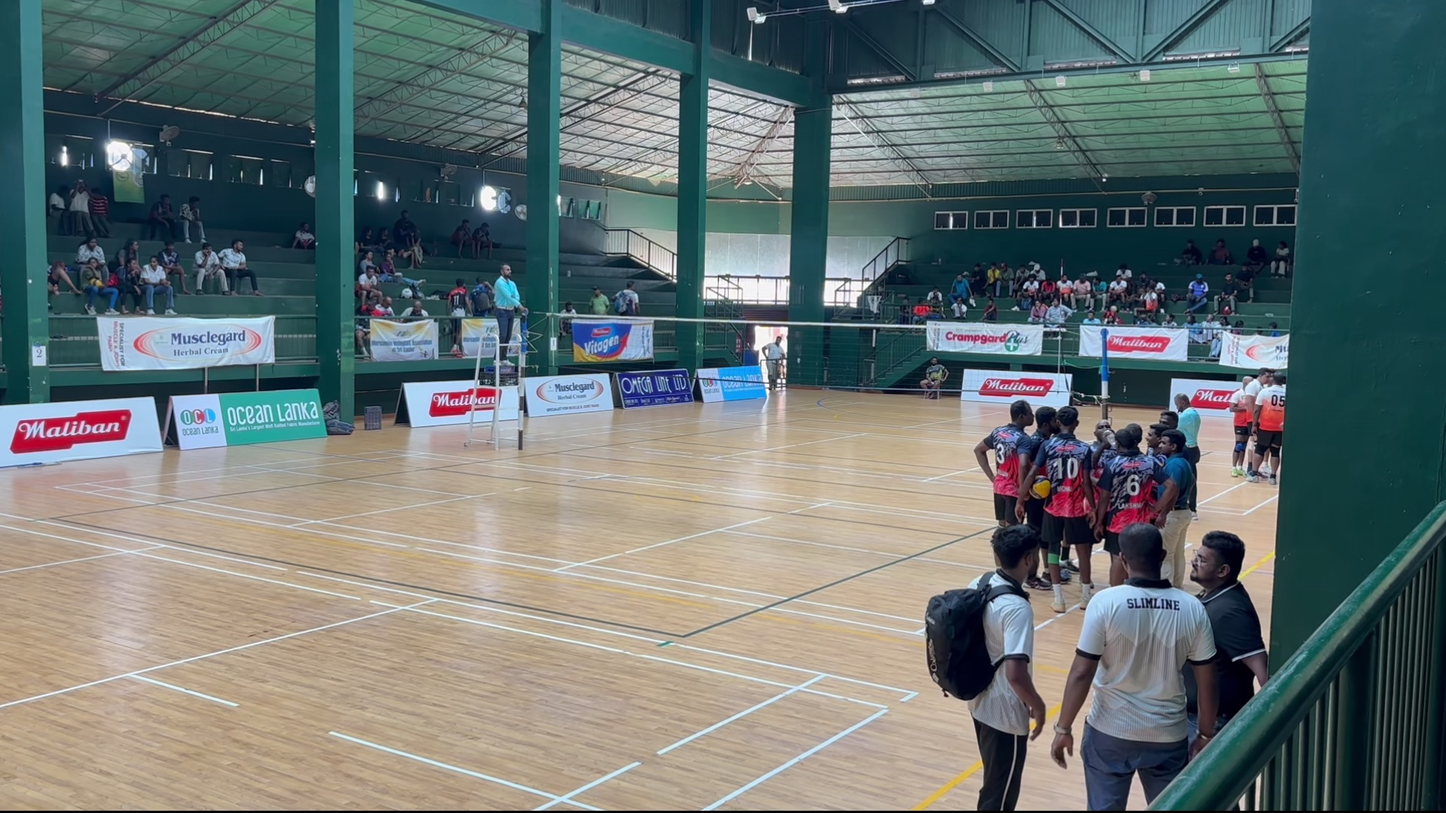Ball: (493, 262, 528, 365)
Payer_B: (1044, 410, 1097, 585), (1105, 427, 1153, 580), (1099, 421, 1141, 584), (983, 402, 1033, 536), (1079, 414, 1113, 592), (997, 400, 1035, 537), (1132, 433, 1167, 575)
